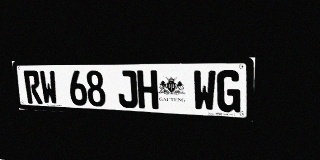6: (68, 70, 88, 106)
8: (85, 70, 106, 107)
G: (217, 70, 242, 113)
H: (137, 70, 158, 109)
J: (117, 70, 138, 108)
R: (23, 71, 43, 104)
W: (193, 70, 216, 112), (39, 70, 59, 105)
